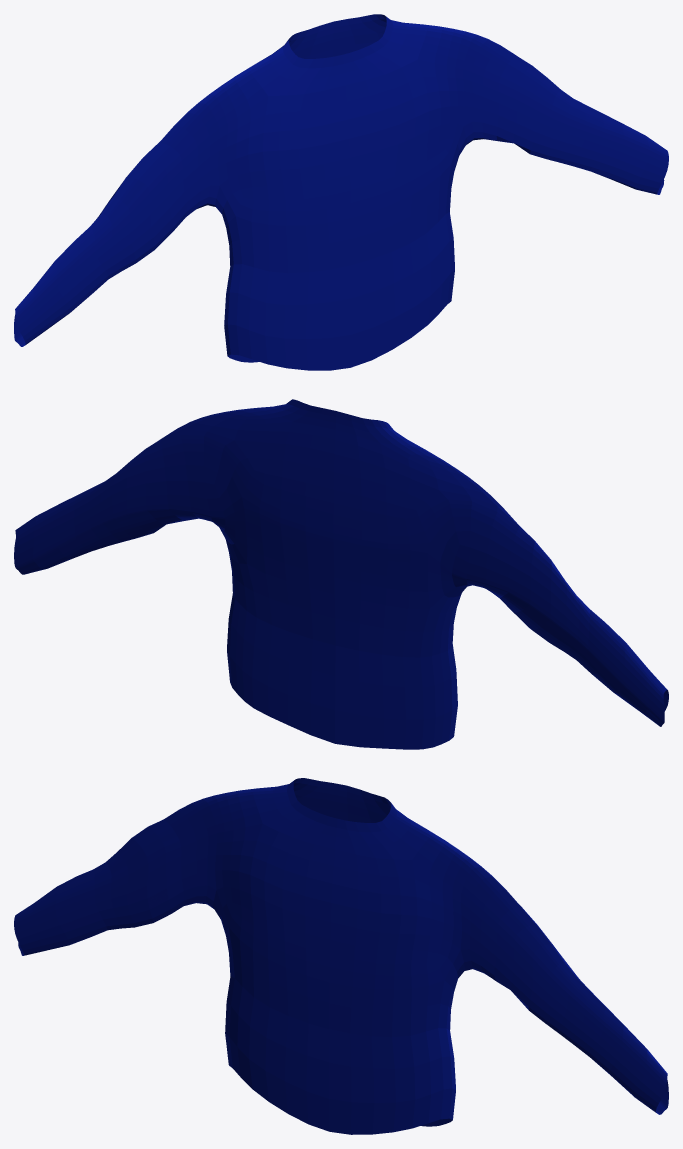
File: magliaschiacciata.fbx
The picture shows the model from 3 angles, top to bottom: view 1: azimuth 30°, elevation 25°; view 2: azimuth 150°, elevation 25°; view 3: azimuth 330°, elevation 25°; orthographic projection.
Visible parts, largest first — view 1: Plane.001; view 2: Plane.001; view 3: Plane.001.
Part boxes in pixels (<box>): Plane.001: <box>14,14,668,370</box>; Plane.001: <box>14,399,668,749</box>; Plane.001: <box>14,778,668,1134</box>.
Bounding box in the file's own units: 124 × 60.53 × 6.75.
